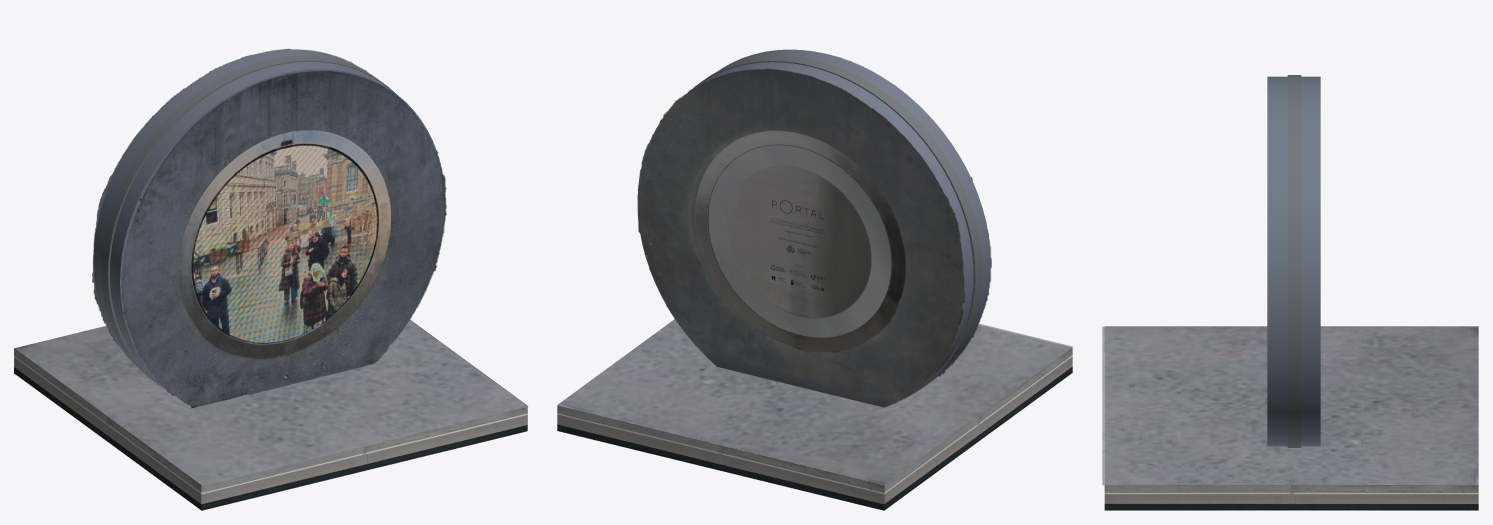
The model's file is Portal.glb.
3 renders of one model, left to right at view 1: azimuth 30°, elevation 25°; view 2: azimuth 150°, elevation 25°; view 3: azimuth 270°, elevation 25°, orthographic.
Parts seen in each view (by area): view 1: mesh_id257, mesh_id296, mesh_id270, mesh_id372, mesh_id379, mesh_id276, mesh_id354; view 2: mesh_id354, mesh_id369, mesh_id296, mesh_id270, mesh_id387, mesh_id379, mesh_id276; view 3: mesh_id296, mesh_id270, mesh_id388, mesh_id276.
Part boxes in pixels (<box>): mesh_id257: <box>120,70,446,408</box>; mesh_id296: <box>15,320,528,485</box>; mesh_id270: <box>93,49,442,380</box>; mesh_id372: <box>201,406,527,510</box>; mesh_id379: <box>14,348,201,509</box>; mesh_id276: <box>101,55,395,389</box>; mesh_id354: <box>92,48,368,369</box>; mesh_id354: <box>637,68,964,405</box>; mesh_id369: <box>694,130,905,352</box>; mesh_id296: <box>558,319,1073,484</box>; mesh_id270: <box>637,49,990,407</box>; mesh_id387: <box>557,405,884,510</box>; mesh_id379: <box>884,347,1072,509</box>; mesh_id276: <box>687,56,982,397</box>; mesh_id296: <box>1102,326,1478,485</box>; mesh_id270: <box>1267,76,1320,446</box>; mesh_id388: <box>1104,485,1478,510</box>; mesh_id276: <box>1287,75,1301,447</box>.
Size of the model in its own units: 0.7115 by 0.7017 by 0.7072.
10 materials, 10 textured.
